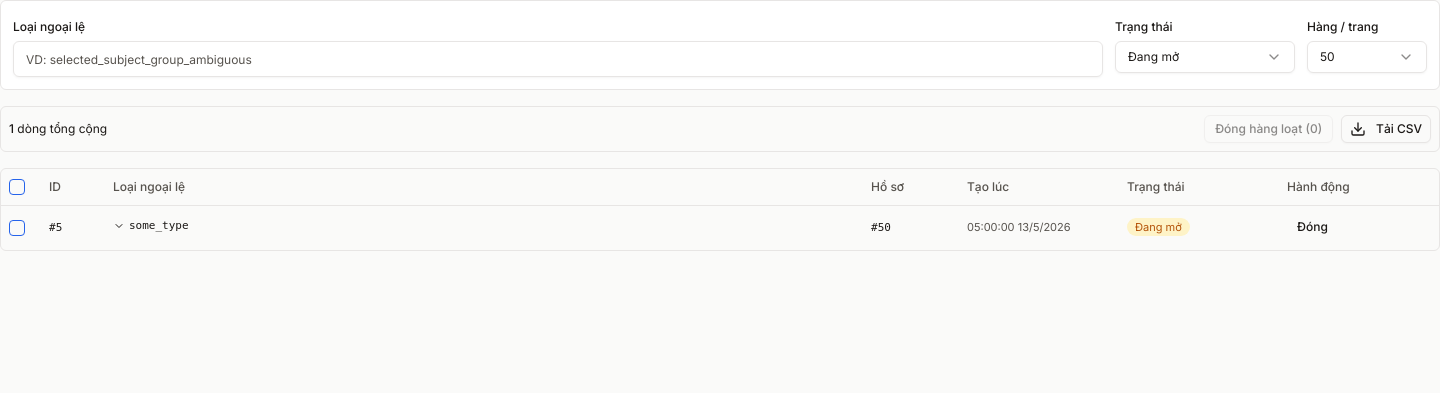
Test: AdminBackfillQueue › expand toggle shows JSONB details + aria-expanded reflects state
This screenshot has width=1440, height=393.
Click the button with test id "expand-toggle-5" at [151, 226], box [113,219,189,233]
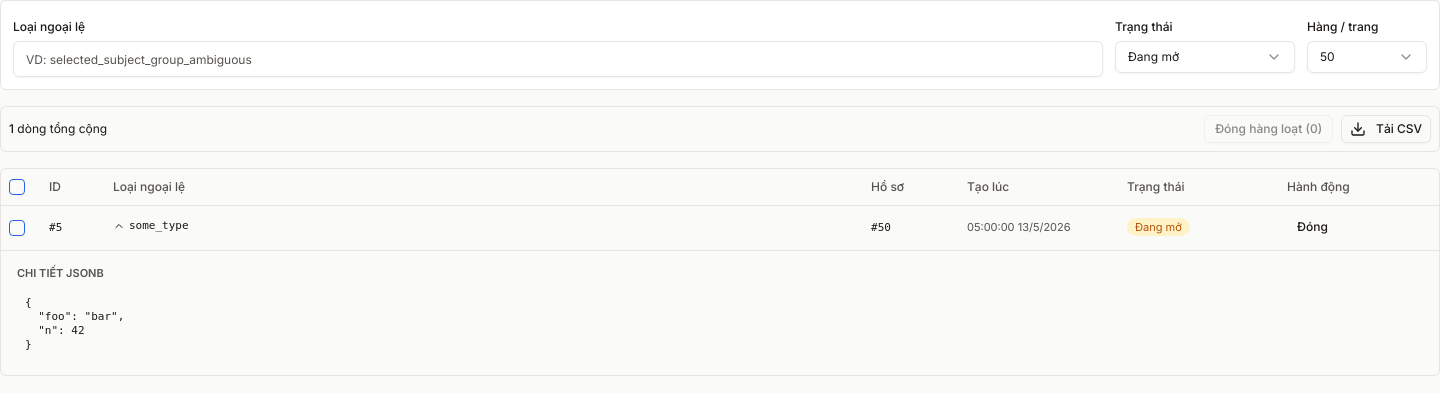
Check: the button with test id "expand-toggle-5" is expanded, box [113,219,189,233]
Check: the element with test id "detail-row-5" shows "\"foo\"", box [25,296,124,351]
Check: the element with test id "detail-row-5" shows "\"bar\"", box [25,296,124,351]
